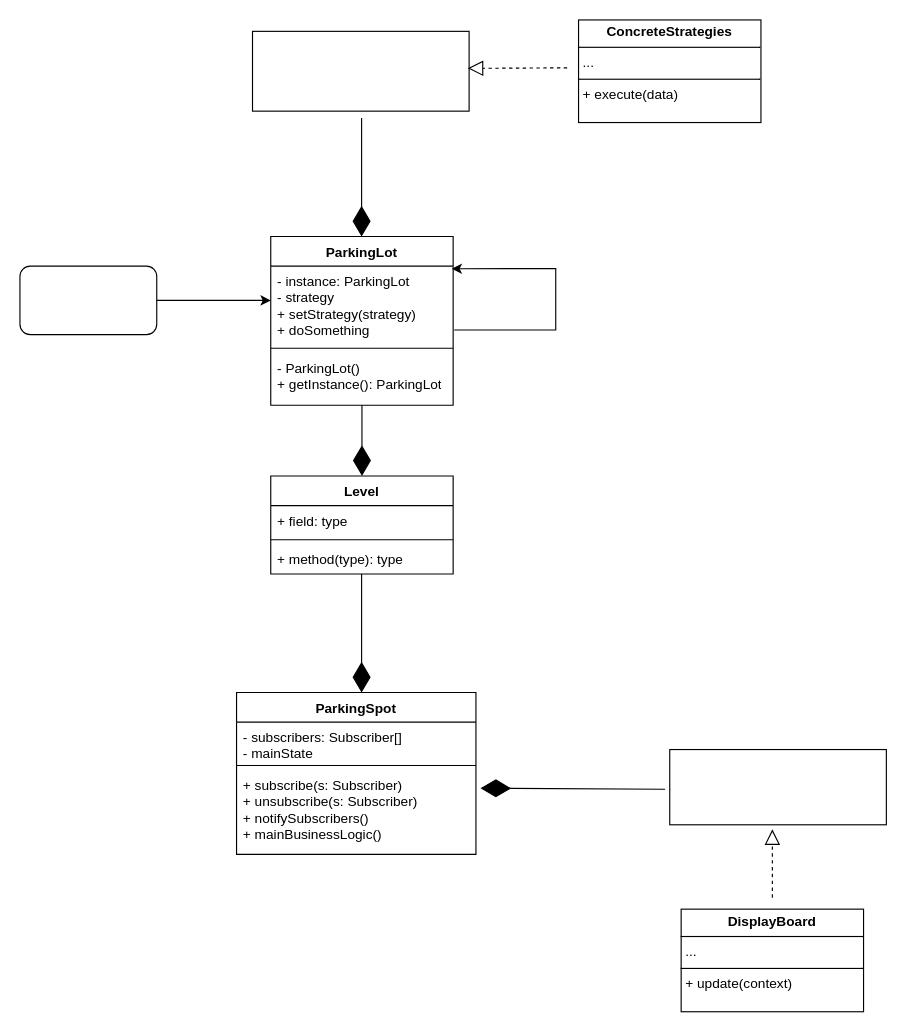
Image size: 906x1032. Some labels were removed from this diagram. The shapes that lost their labels are listed below. From the top down, each one's centre as x and y in pixels, then its label:
At pixel 360 70: "<<Interface>> Strategy + execute(data)".
At pixel 88 300: "Client".
At pixel 777 786: "<<Interface>> Subscriber + update(context)".
